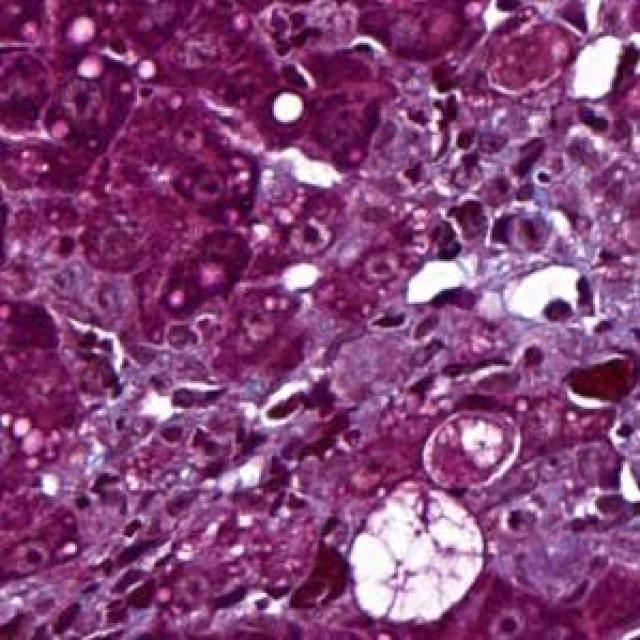ballooning: (349, 477, 488, 623), (420, 404, 524, 492)
